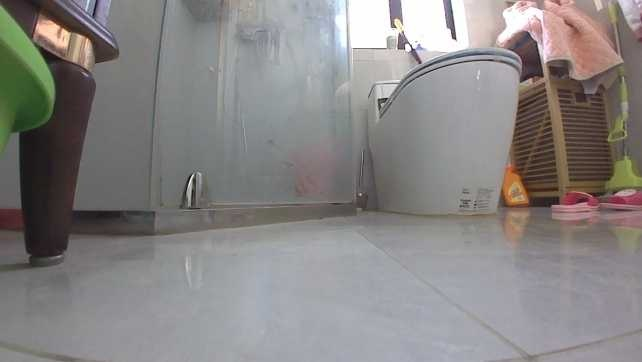slipper: (547, 186, 595, 212), (604, 182, 641, 212)
toilet: (363, 36, 522, 215)
